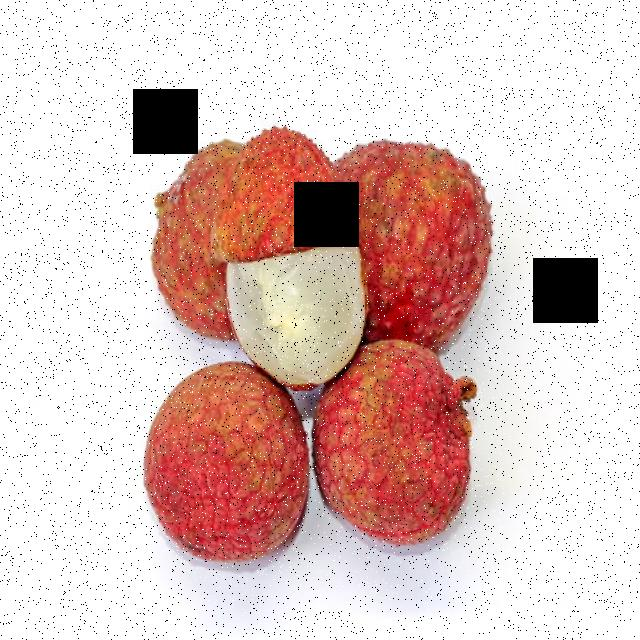lychee: (154, 124, 488, 562)
